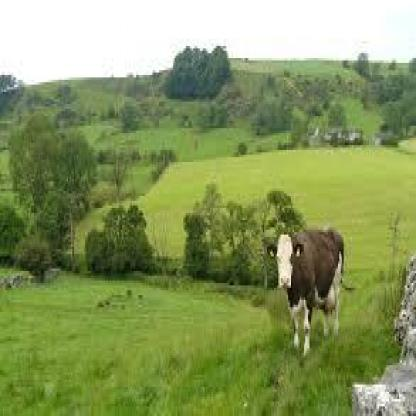cow: (266, 228, 345, 356)
